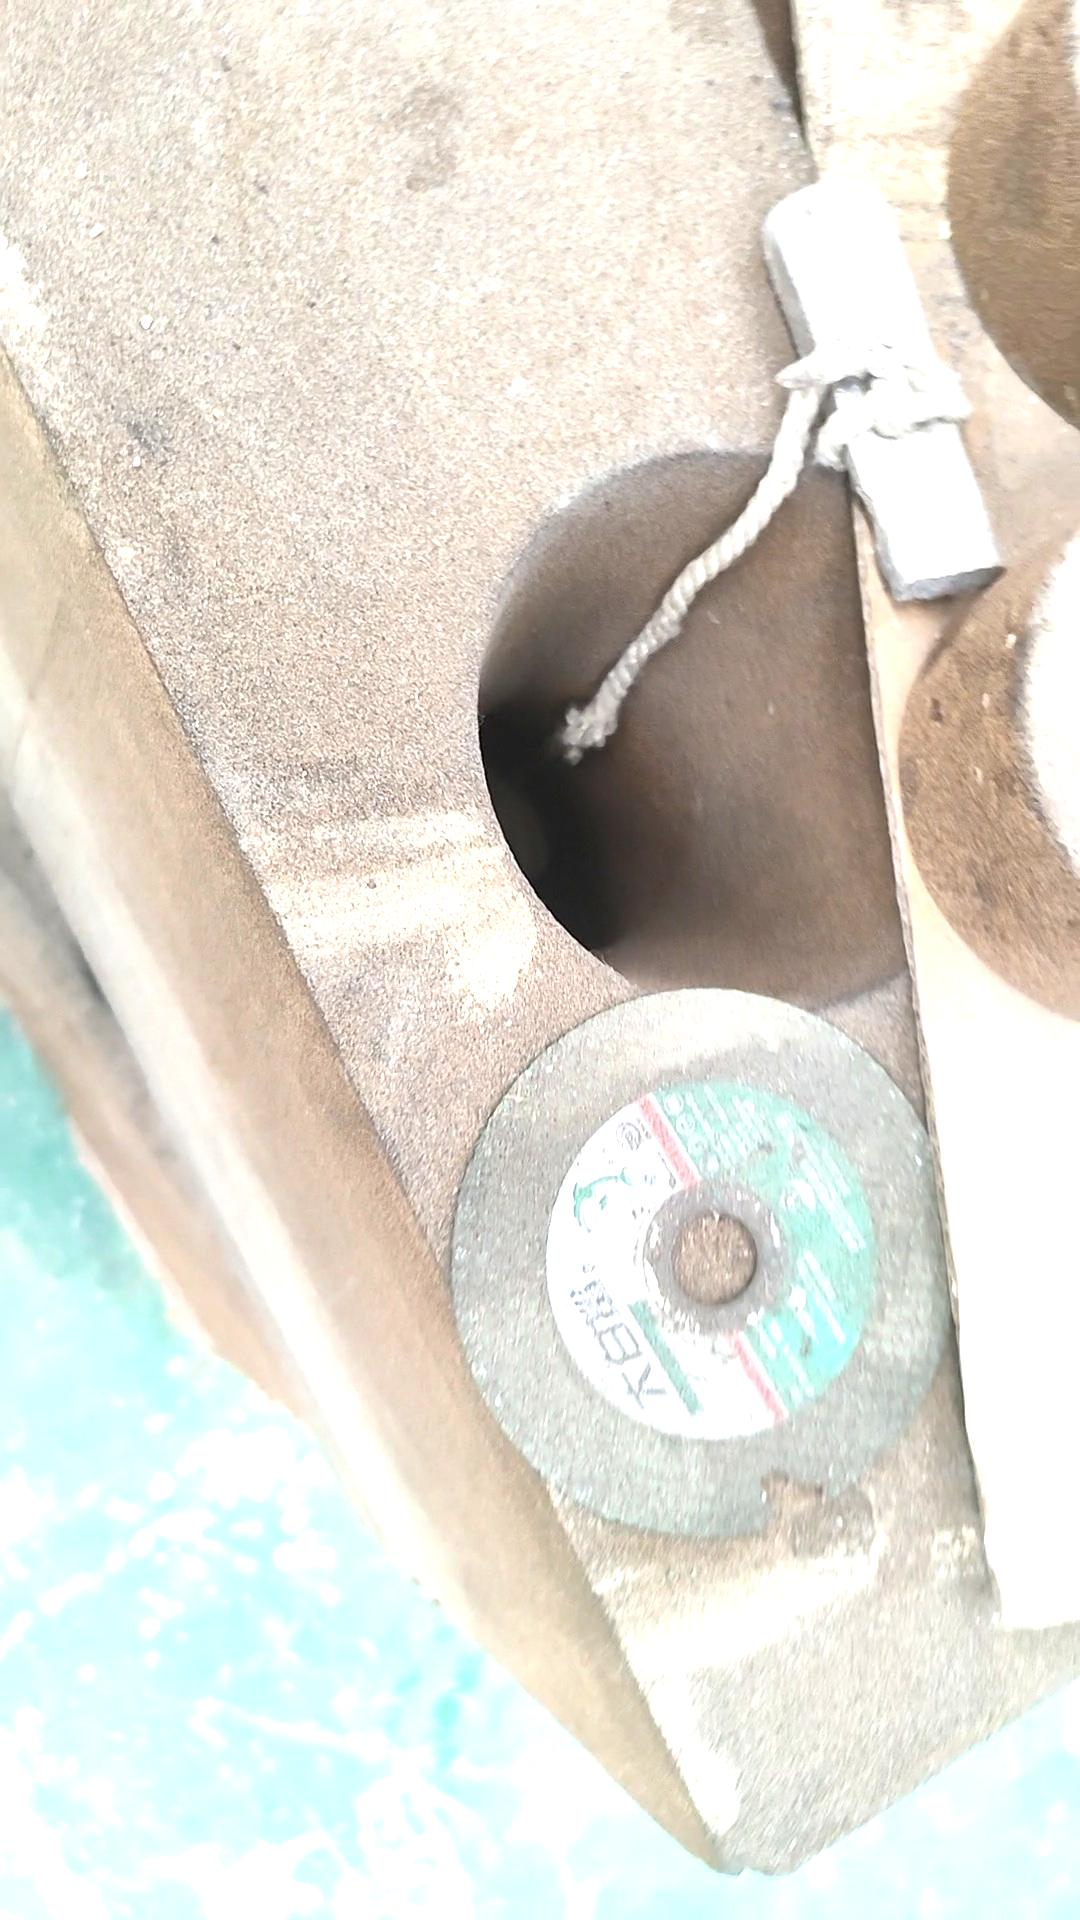pouring hole: (479, 452, 971, 1011)
